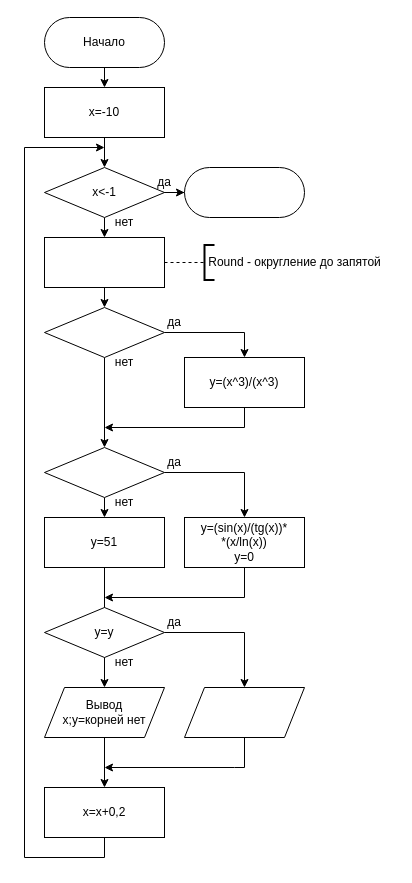
Some shapes in this 412 by 883 pixel diagram are drawn without their labels. Here are the shapes that lost their labels. From the top down, the centre of each, then its label:
point 244,192: Конец
point 104,262: x=(Round(X*10))/10 y=0
point 104,332: x<-8
point 104,472: x>=-8 и x<-3
point 244,712: Вывод х;у
